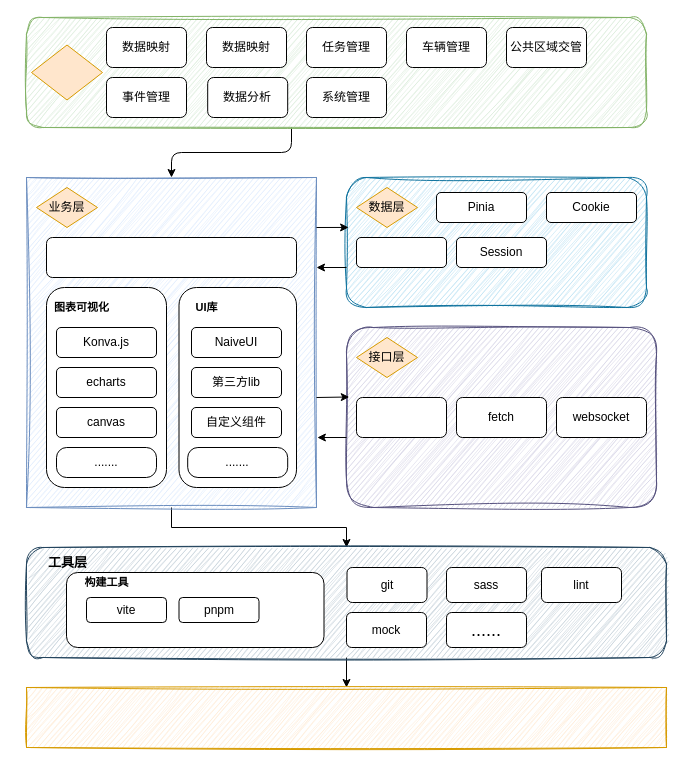
Image size: 684x765. Some labels were removed from this diagram. Here are the shapes that lost their labels. From the top down, the box of each, then its label:
(30, 44, 102, 100): 展示层
(46, 236, 296, 278): Vue Router路由拦截/ 鉴权
(356, 236, 446, 268): indexedDB
(356, 396, 446, 438): axios
(26, 686, 666, 748): nginx
